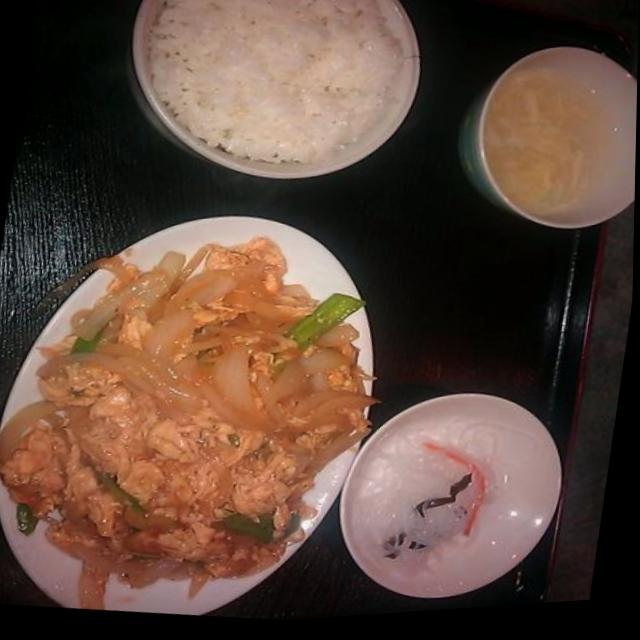米饭主食: (104, 0, 433, 210)
